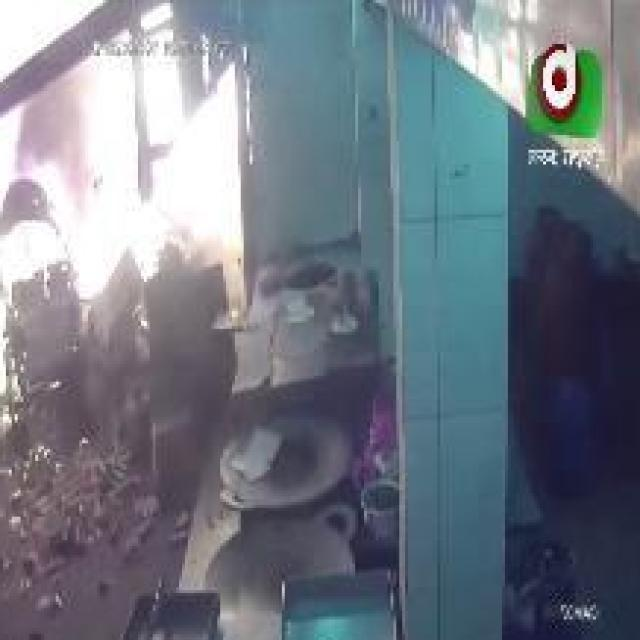smoke: (56, 29, 241, 340), (0, 3, 103, 411)
